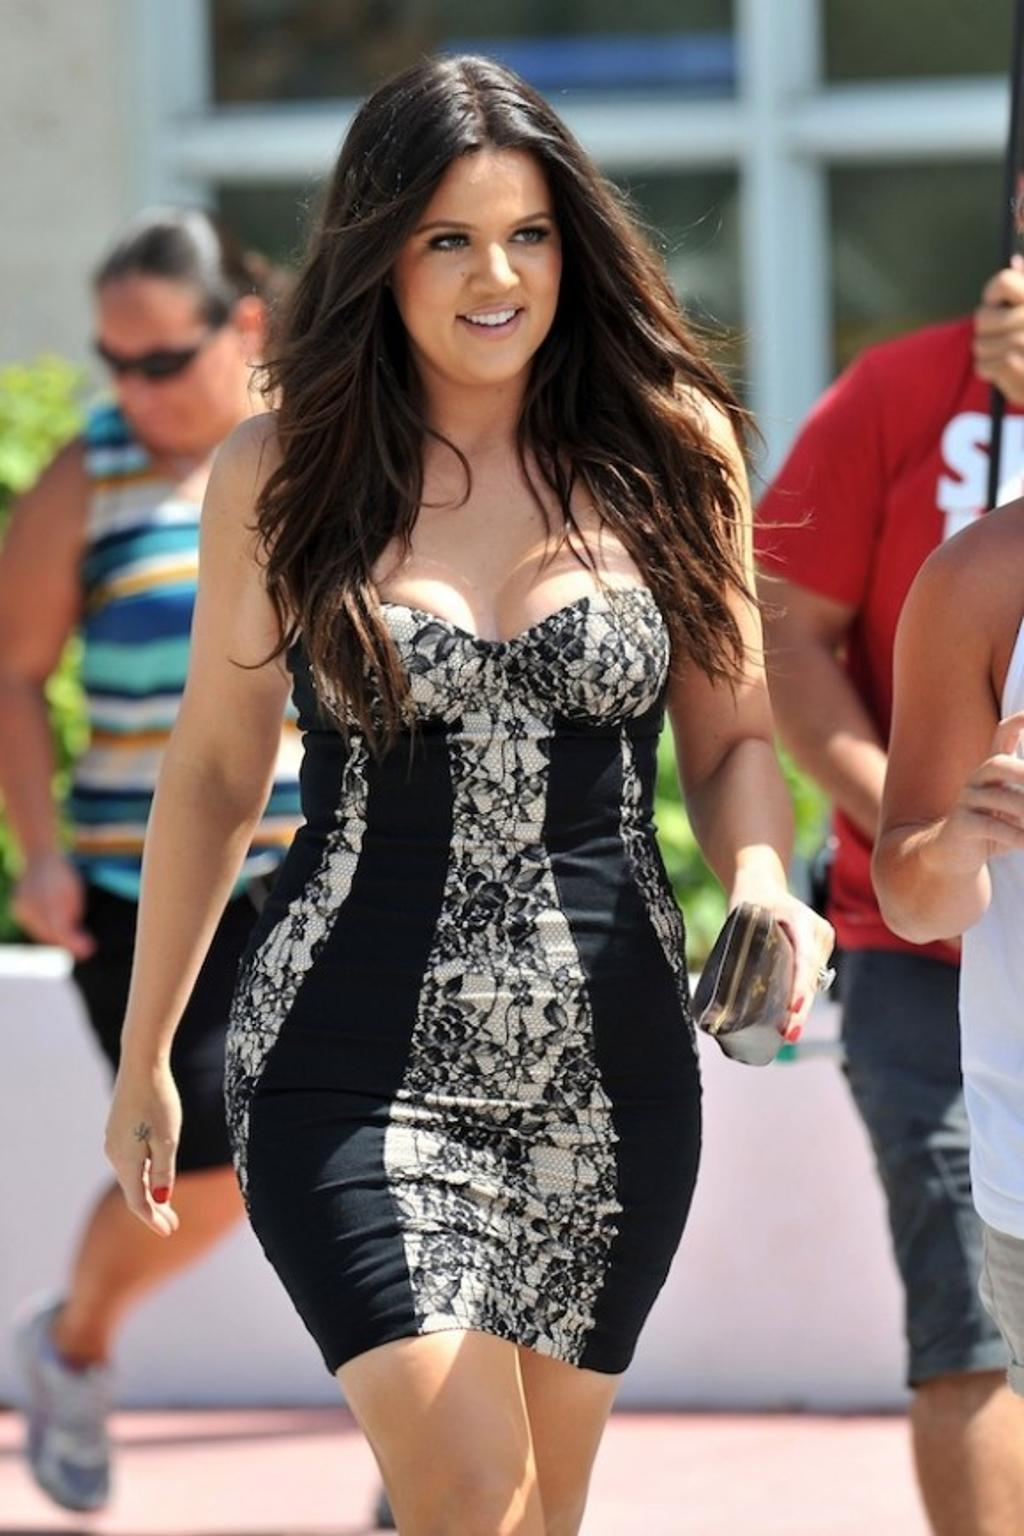face: (393, 156, 555, 387), (93, 273, 231, 453)
